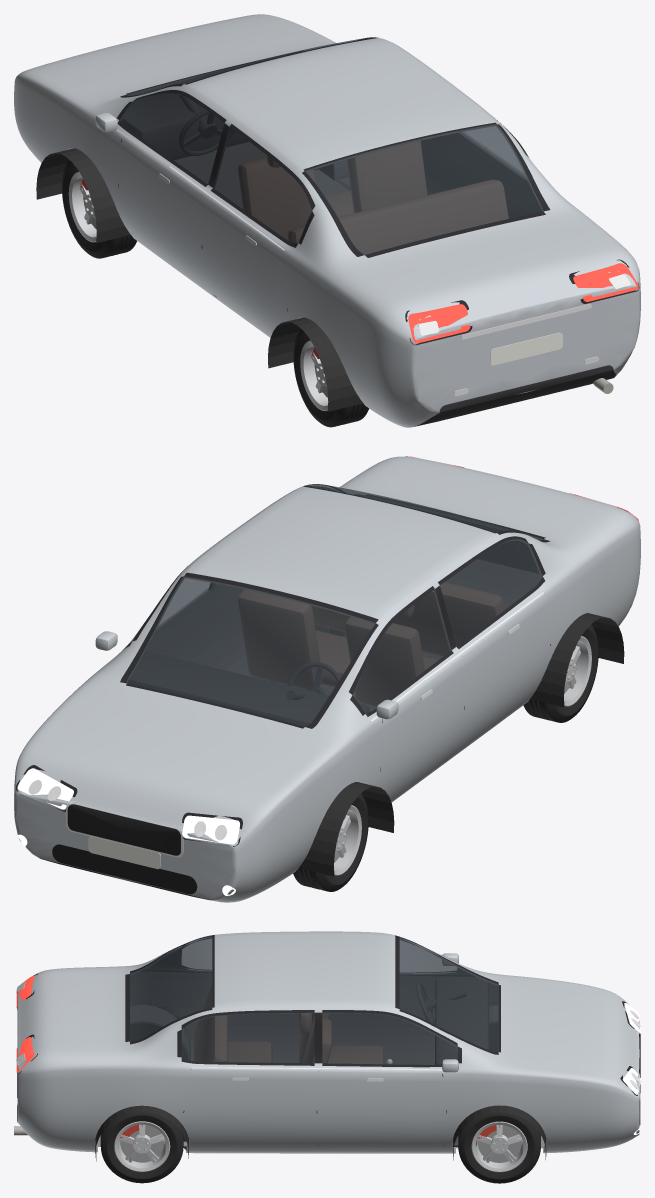
File: 02_alder_sedan.glb
3 views of the same model, one above another, from view 1: azimuth 30°, elevation 25°; view 2: azimuth 150°, elevation 25°; view 3: azimuth 270°, elevation 25° (orthographic). The views are drawn at different scales.
Visible parts, largest first — view 1: Body.007, Glass.007, Interior.007, Interior_Shell.006, ArchLiners.006, Wheel_RL.007, Wheel_FL.007, Lights_Tail.007, Bumper_Trim_Rear, Plate_Rear.006, SteeringWheel.007, Trunk_Chrome; view 2: Body.007, Glass.007, Interior.007, Interior_Shell.006, ArchLiners.006, Grille_Main, Wheel_FL.007, Wheel_RL.007, Intake_Lower.001, Lights_Head.007, Plate_Front.003, SteeringWheel.007 (+1 smaller); view 3: Body.007, Glass.007, Interior_Shell.006, Interior.007, Wheel_RR.007, Wheel_FR.007, ArchLiners.006, SteeringWheel.007, Lights_Tail.007, Lights_Head.007, Window_Chrome, Mirror_Housing.006.
Part boxes in pixels (x1,y1,x2,y2): Body.007: [14, 14, 640, 427]; Glass.007: [120, 37, 542, 254]; Interior.007: [121, 94, 508, 254]; Interior_Shell.006: [120, 69, 542, 218]; ArchLiners.006: [36, 148, 362, 411]; Wheel_RL.007: [293, 329, 369, 427]; Wheel_FL.007: [62, 160, 136, 258]; Lights_Tail.007: [408, 263, 638, 343]; Bumper_Trim_Rear: [439, 365, 613, 415]; Plate_Rear.006: [490, 332, 562, 365]; SteeringWheel.007: [178, 95, 234, 155]; Trunk_Chrome: [461, 304, 591, 339]; Body.007: [14, 456, 640, 902]; Glass.007: [127, 484, 542, 726]; Interior.007: [127, 582, 505, 726]; Interior_Shell.006: [127, 486, 542, 691]; ArchLiners.006: [299, 613, 624, 876]; Grille_Main: [67, 804, 180, 855]; Wheel_FL.007: [293, 793, 368, 891]; Wheel_RL.007: [523, 624, 598, 722]; Intake_Lower.001: [52, 844, 197, 894]; Lights_Head.007: [17, 768, 239, 844]; Plate_Front.003: [88, 836, 160, 869]; SteeringWheel.007: [286, 662, 340, 700]; Body.007: [17, 931, 639, 1153]; Glass.007: [130, 935, 498, 1064]; Interior_Shell.006: [130, 937, 498, 1151]; Interior.007: [194, 977, 489, 1146]; Wheel_RR.007: [100, 1112, 183, 1183]; Wheel_FR.007: [458, 1112, 540, 1183]; ArchLiners.006: [95, 1023, 546, 1161]; SteeringWheel.007: [416, 982, 466, 1024]; Lights_Tail.007: [16, 976, 34, 1072]; Lights_Head.007: [622, 1003, 640, 1093]; Window_Chrome: [191, 1067, 442, 1070]; Mirror_Housing.006: [442, 953, 458, 1072].
Size of what is drawn, in the model's own units: 2.06 by 1.46 by 4.84.
